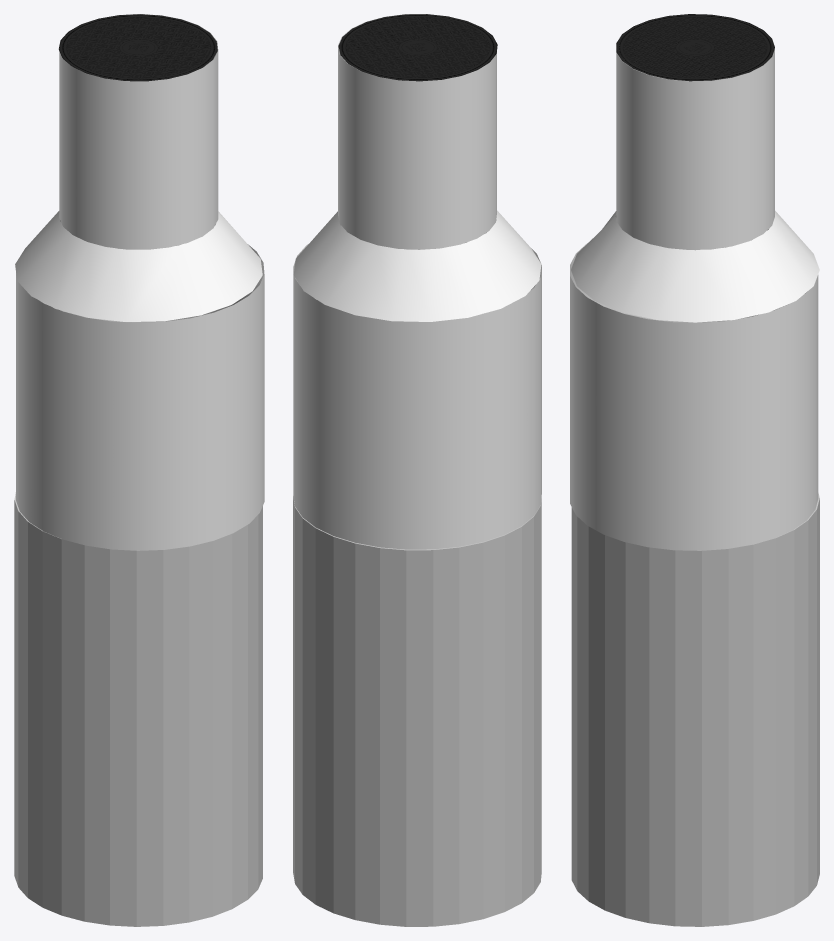
3 views of the same model, side by side, from view 1: azimuth 30°, elevation 25°; view 2: azimuth 150°, elevation 25°; view 3: azimuth 270°, elevation 25° (orthographic).
Parts seen in each view (by area): view 1: node_id6, node_id8, node_id12, node_id4, node_id10; view 2: node_id6, node_id8, node_id12, node_id4, node_id10; view 3: node_id6, node_id8, node_id12, node_id4, node_id10.
Boxes of the visible parts, x1,y1,x2,y2 form: node_id6: [14, 492, 262, 926]; node_id8: [16, 232, 264, 550]; node_id12: [59, 14, 218, 249]; node_id4: [15, 211, 262, 321]; node_id10: [58, 14, 217, 81]; node_id6: [293, 496, 541, 926]; node_id8: [293, 232, 541, 549]; node_id12: [338, 14, 496, 249]; node_id4: [293, 210, 541, 321]; node_id10: [338, 14, 497, 81]; node_id6: [571, 493, 819, 926]; node_id8: [570, 229, 818, 550]; node_id12: [616, 48, 774, 249]; node_id4: [571, 210, 819, 322]; node_id10: [616, 14, 774, 81].
Size of the model in its own units: 0.2573 by 0.9401 by 0.2575.
Materials: 5 (1 with a texture image).
